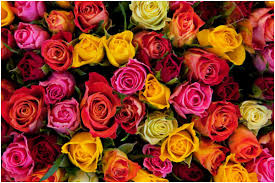rose: (176, 61, 229, 116), (5, 136, 57, 176), (143, 31, 182, 82), (7, 88, 49, 130), (16, 16, 41, 82), (83, 87, 115, 135), (40, 31, 76, 72), (115, 60, 145, 94)
